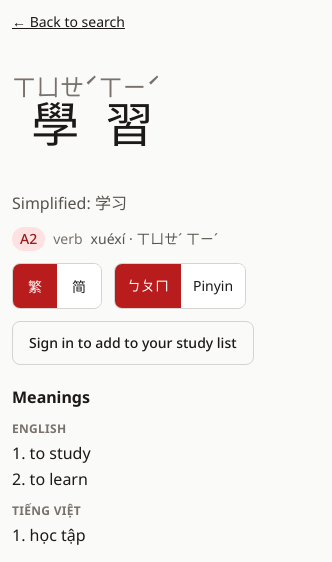
Test case: the word › switches to pinyin and to simplified characters, and says what the other form is
The width and height of the screenshot is (332, 562).
Step 1. Click the button "Pinyin" → (213, 286), box left=181, top=264, right=245, bottom=308
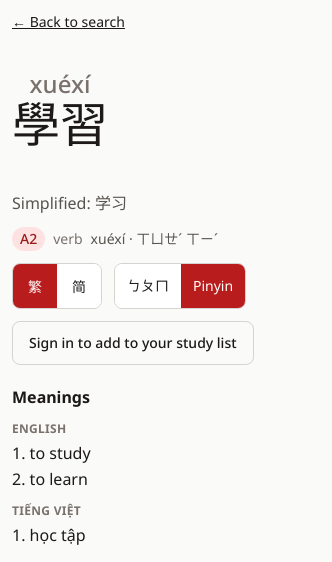
Step 2. Click the button named "Simplified" → (79, 286), box left=57, top=264, right=101, bottom=308
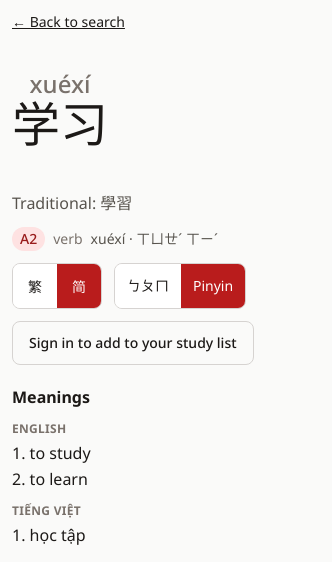
Expected: the heading "学习 xuéxí" is shown, left=12, top=67, right=108, bottom=156
Expected: the heading no longer shows "學"
Expected: the text "Traditional: 學習" is shown, left=12, top=192, right=132, bottom=214
